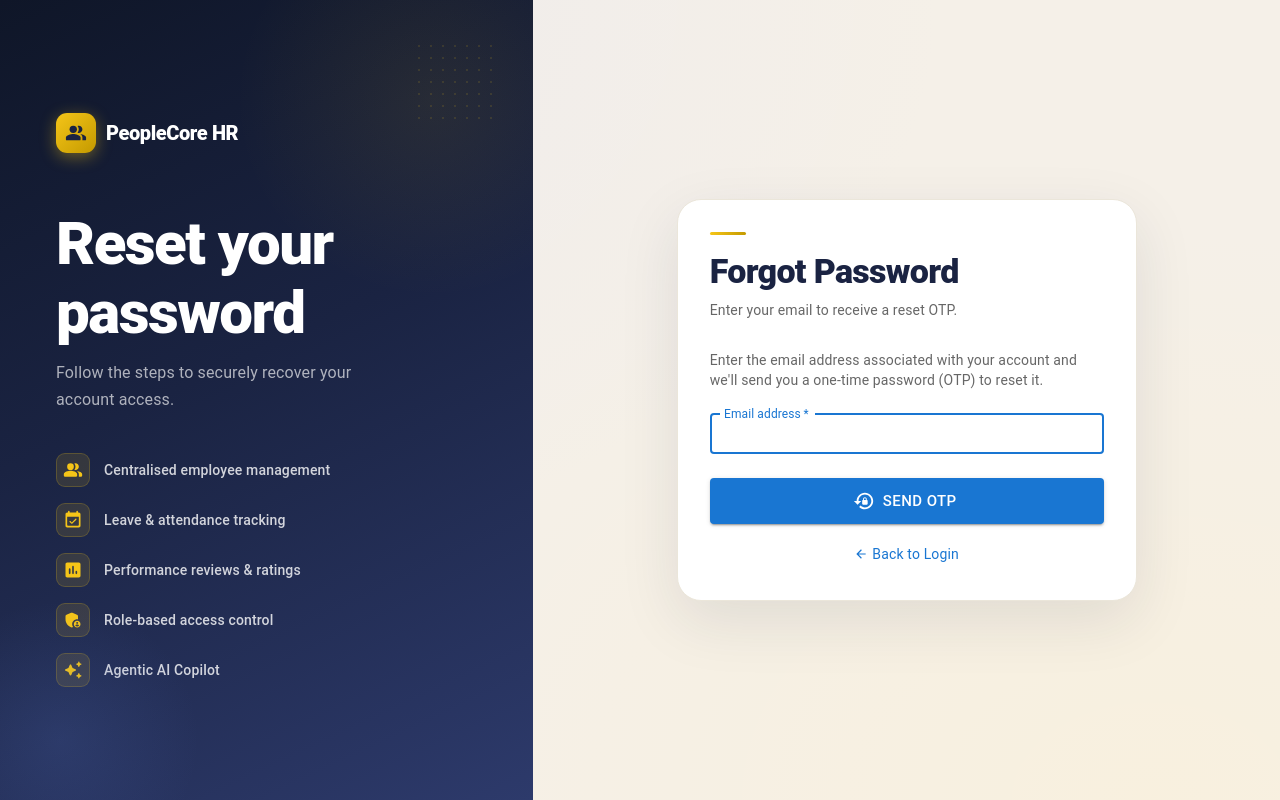
Test: ForgotPasswordPage › Email step › shows "This email is not registered with us." for a 404 response
Type "nobody@example.com" into the field labelled "Email address *".
click(907, 434); type("nobody@example.com")  # box top-left (710, 414), bottom-right (1104, 454)
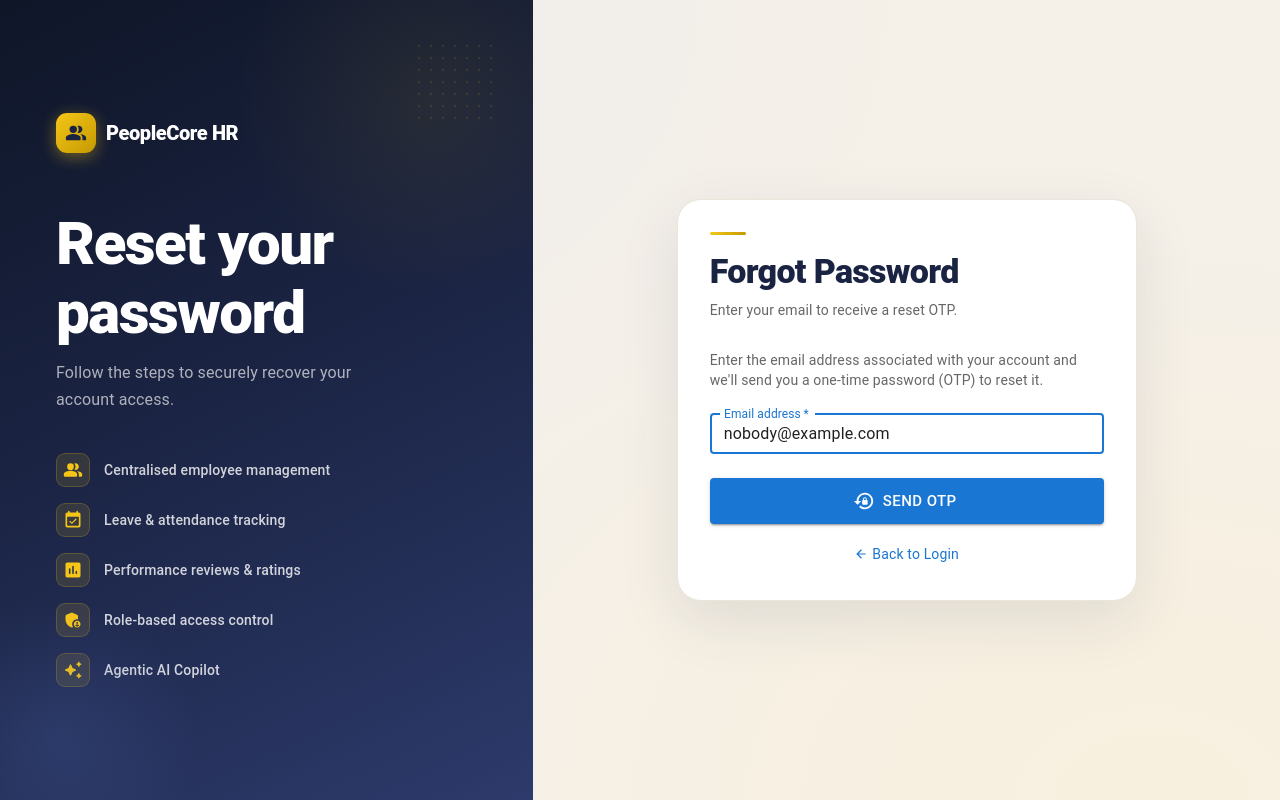
Click the button "Send OTP".
click(907, 501)  # box top-left (710, 478), bottom-right (1104, 524)
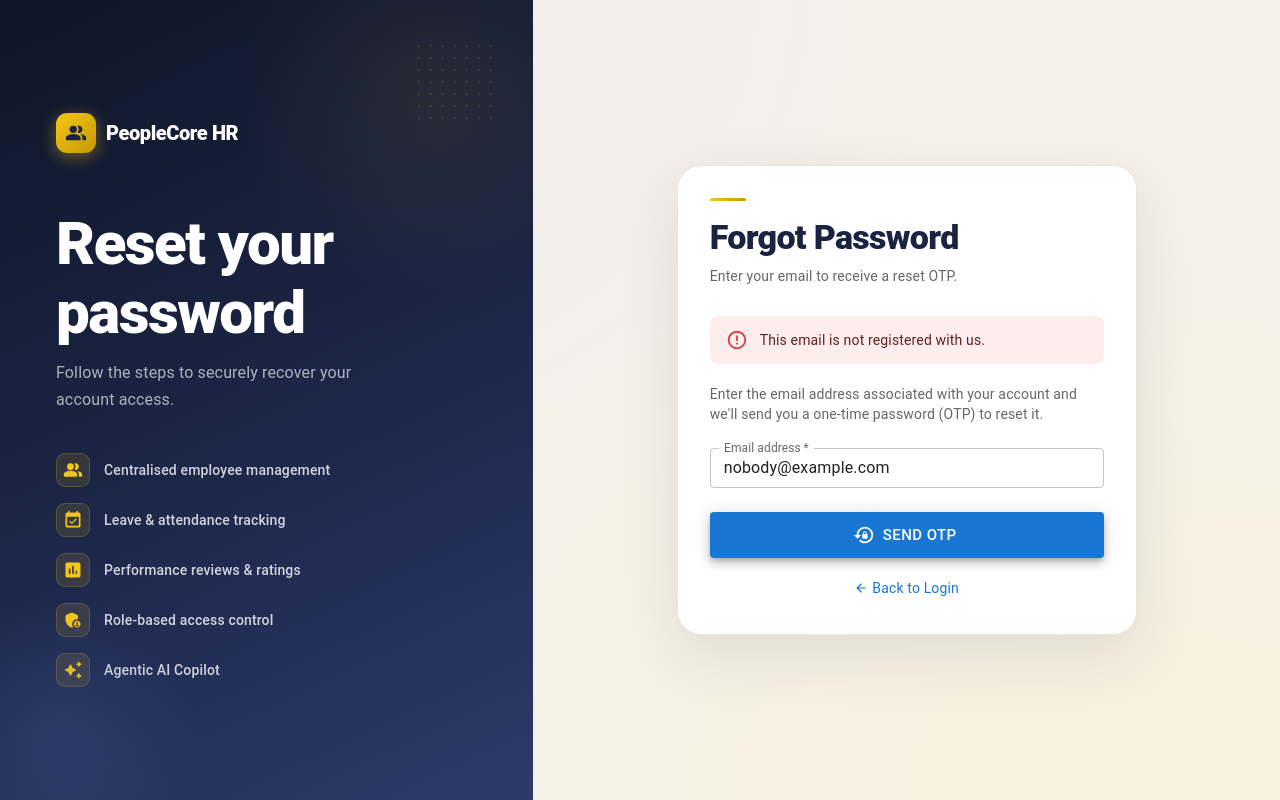
Expected: the message shows "This email is not registered with us", top-left (760, 332), bottom-right (985, 348)
